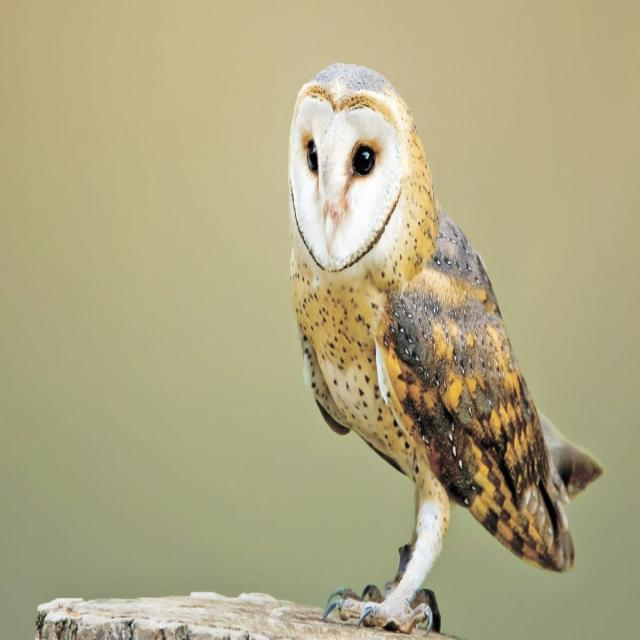Owl: (275, 49, 602, 619)
